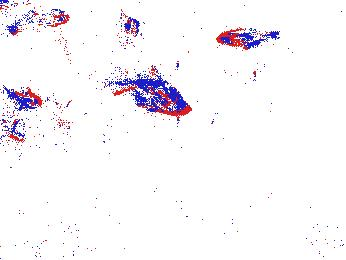X-ray fish: (119, 76, 190, 112), (109, 9, 141, 49)
red belly glassfish: (216, 25, 279, 47), (265, 48, 300, 69), (9, 89, 43, 109)
redtail glassfish: (1, 1, 71, 29)
